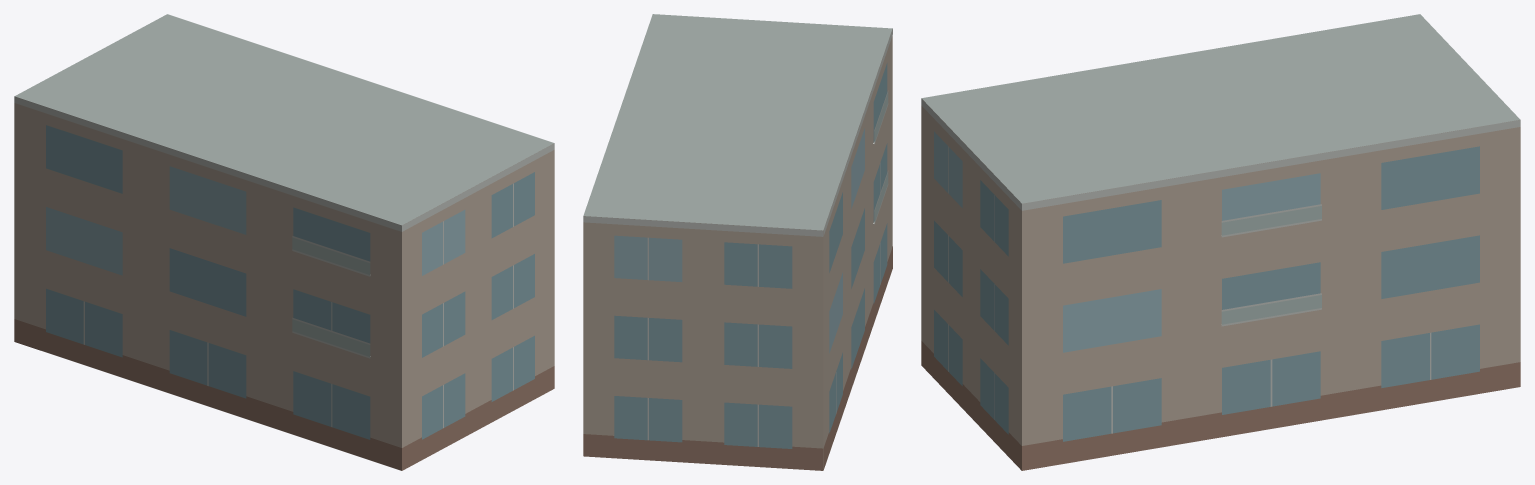
File: survey-upis-32698456.glb
3 views of the same model, side by side, from view 1: azimuth 30°, elevation 25°; view 2: azimuth 150°, elevation 25°; view 3: azimuth 270°, elevation 25° (orthographic). The views are drawn at different scales.
Visible parts, largest first — view 1: survey-upis-32698456.tmp; view 2: survey-upis-32698456.tmp; view 3: survey-upis-32698456.tmp.
Boxes of the visible parts, x1,y1,x2,y2 form: survey-upis-32698456.tmp: (14, 14, 554, 470); survey-upis-32698456.tmp: (583, 14, 892, 470); survey-upis-32698456.tmp: (921, 14, 1520, 470).
Size of the model in its own units: 13.95 by 9.15 by 18.61.
